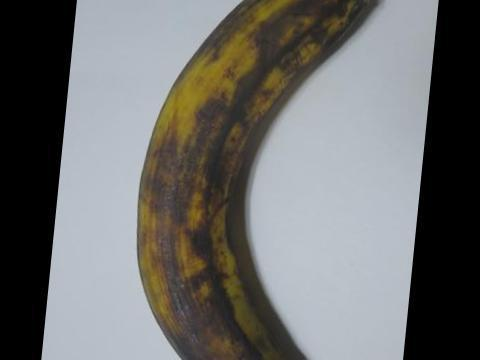overripe: (121, 0, 394, 359)
